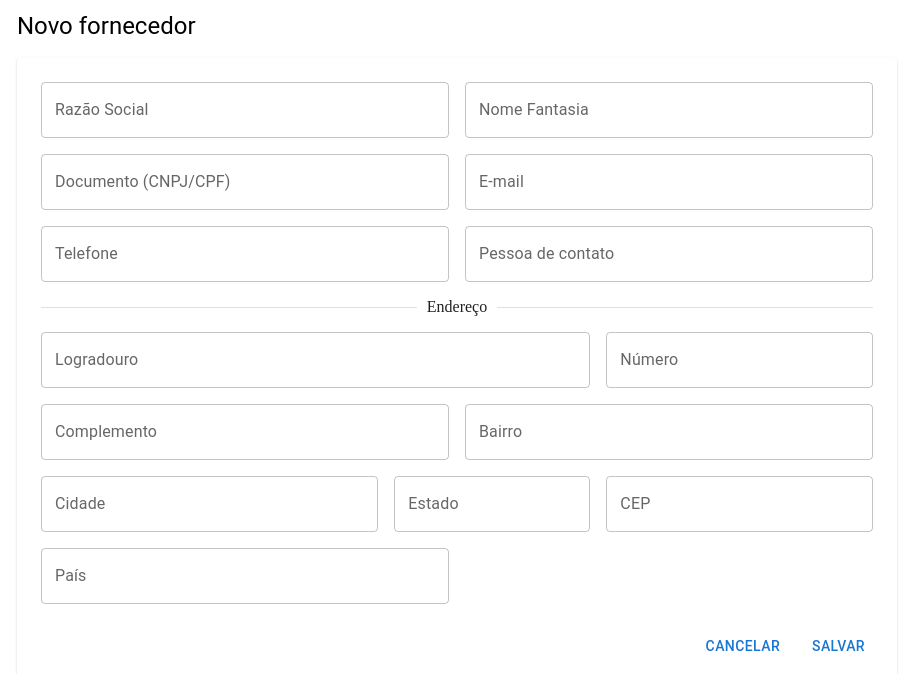
validates required fields before submit
Click the button "Salvar". click: (838, 646)
box: [804,628,873,664]
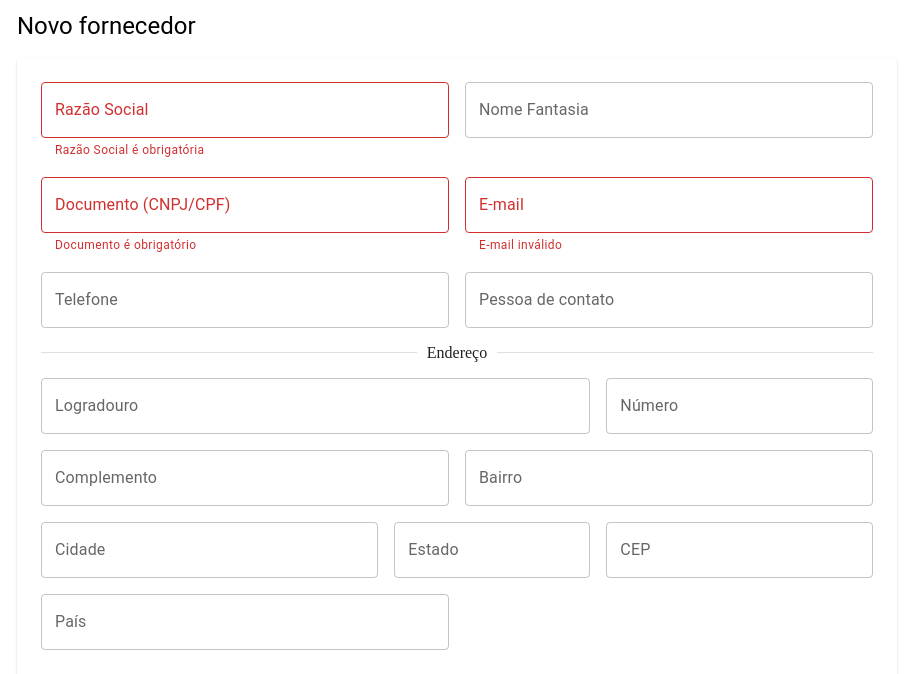
Result: the text "Razão Social é obrigatória" is shown at [55,143,205,157]
